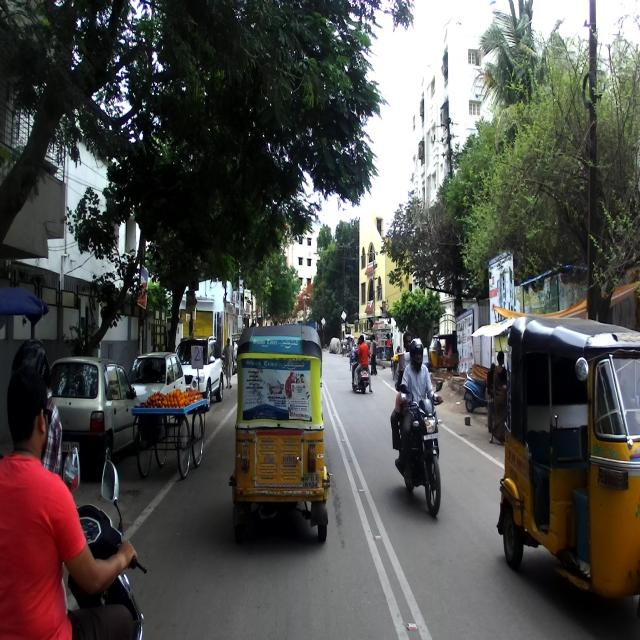autorickshaw: (497, 312, 639, 603), (228, 323, 331, 543)
car: (46, 356, 142, 478), (127, 352, 187, 404)
motorcycle: (0, 460, 153, 640), (395, 381, 443, 518)
